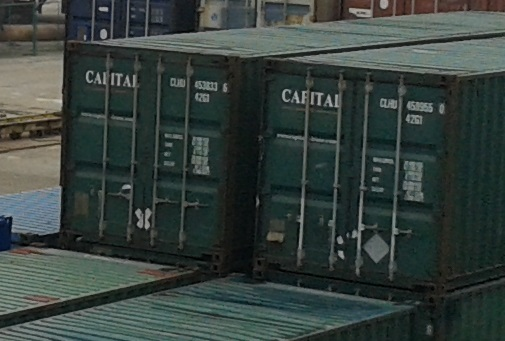container_door: (255, 53, 449, 298), (60, 40, 238, 265)
